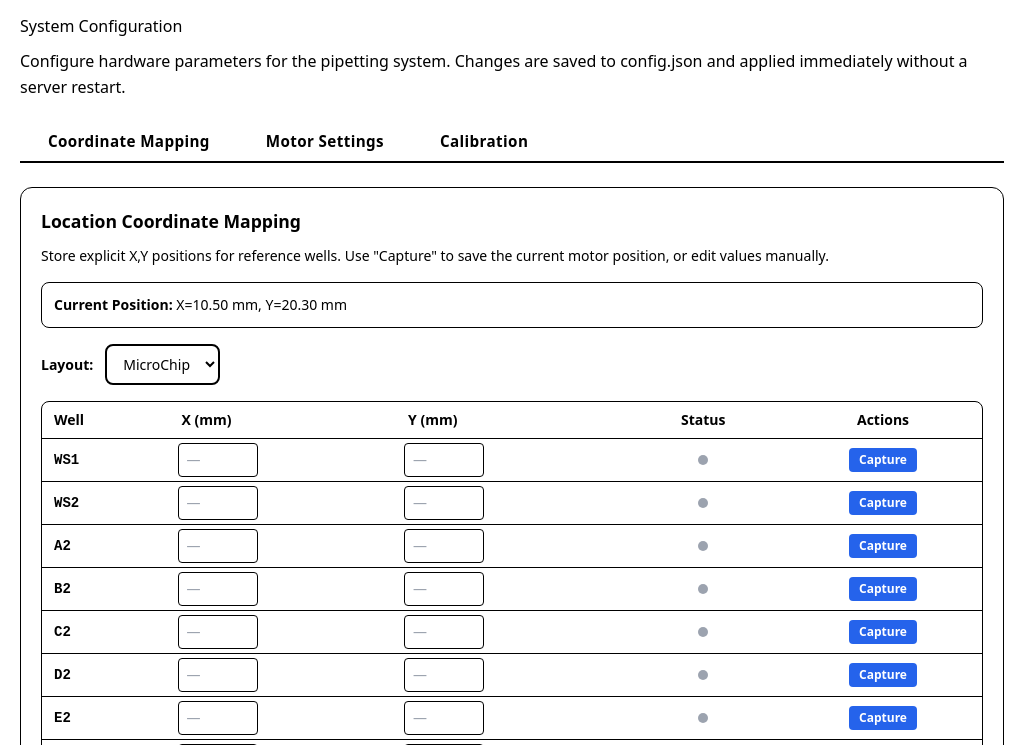
Test: Motor Settings › shows speed warning when travel speed is too low
The width and height of the screenshot is (1024, 745).
Click the button "Motor Settings" at (325, 141), box [238, 120, 412, 163]
(page scrolled)
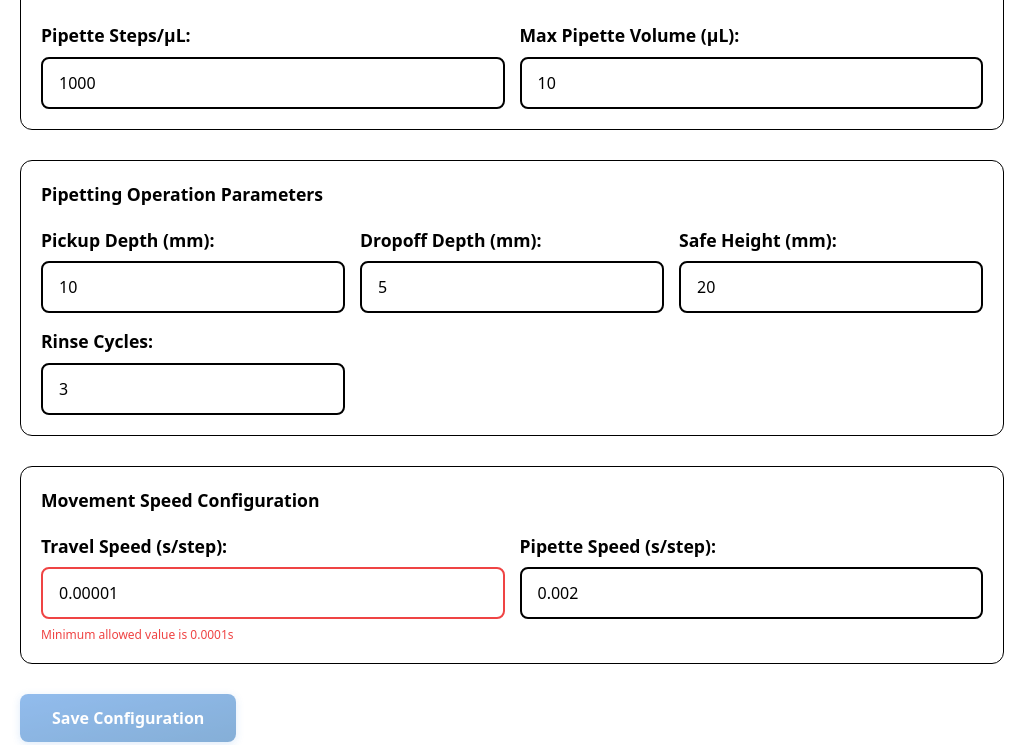
Check: the text "Minimum allowed value is 0.0001s" is shown, box [41, 626, 234, 644]
